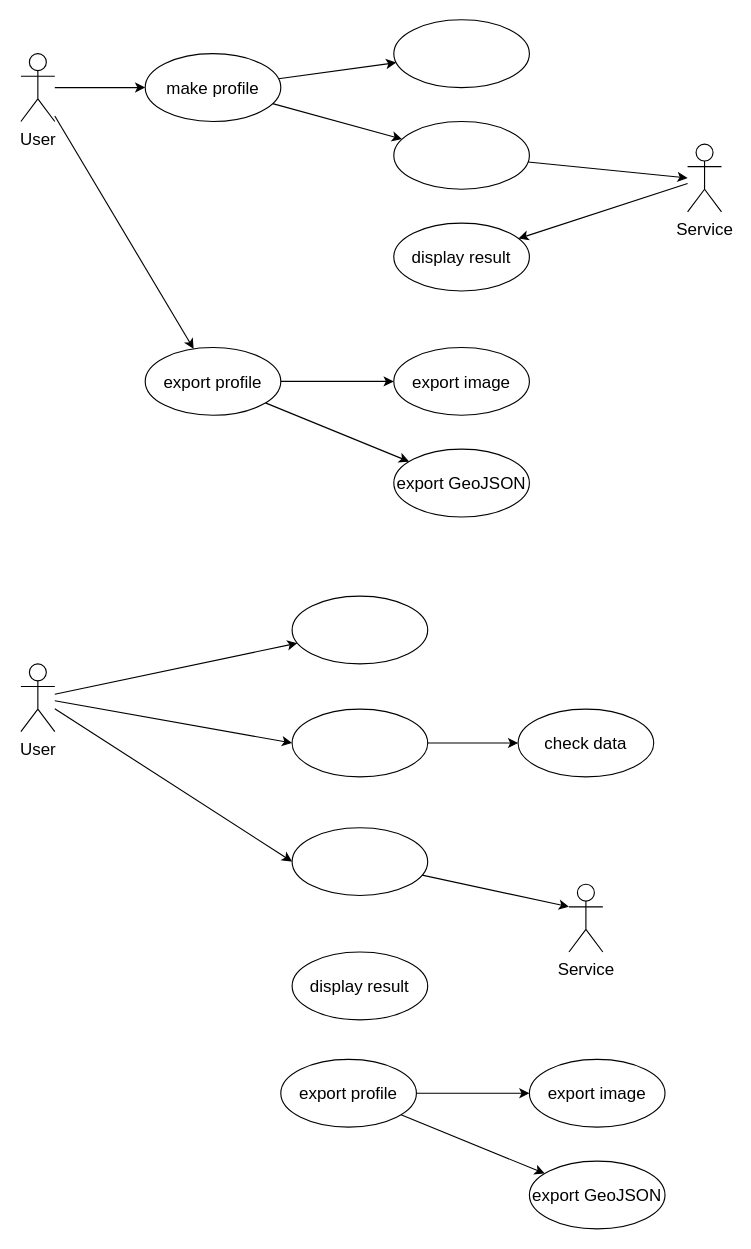
Image size: 751x1249. Some labels were removed from this diagram. Each missing label, with the box of its shape:
draw line: (393, 19, 529, 88)
execute: (393, 120, 529, 189)
get data: (291, 708, 428, 777)
send data: (291, 827, 428, 896)
set process: (291, 595, 428, 664)
